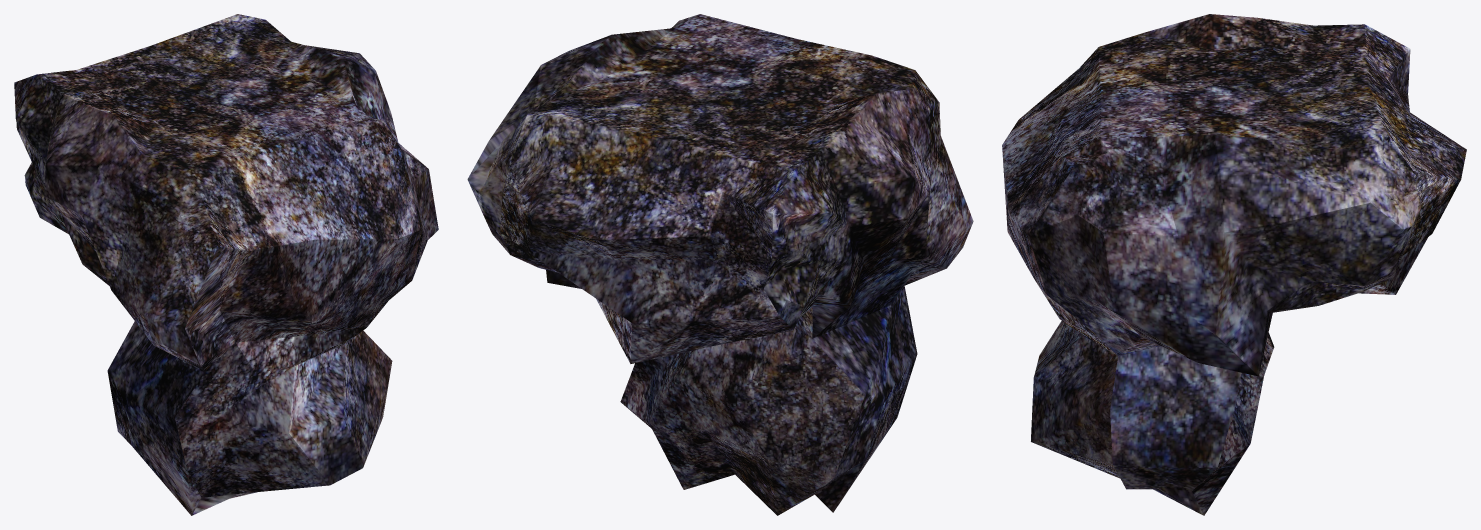
Rendered from plataforma inicio.fbx.
3 renders of one model, left to right at view 1: azimuth 30°, elevation 25°; view 2: azimuth 150°, elevation 25°; view 3: azimuth 270°, elevation 25°, orthographic. The views are drawn at different scales.
Visible parts, largest first — view 1: StartPlatform; view 2: StartPlatform; view 3: StartPlatform.
Boxes of the visible parts, left/top/right/bottom form: StartPlatform: left=14, top=14, right=438, bottom=515; StartPlatform: left=467, top=14, right=973, bottom=515; StartPlatform: left=1002, top=14, right=1466, bottom=515.
Bounding box in the file's own units: 792 × 870 × 876.
